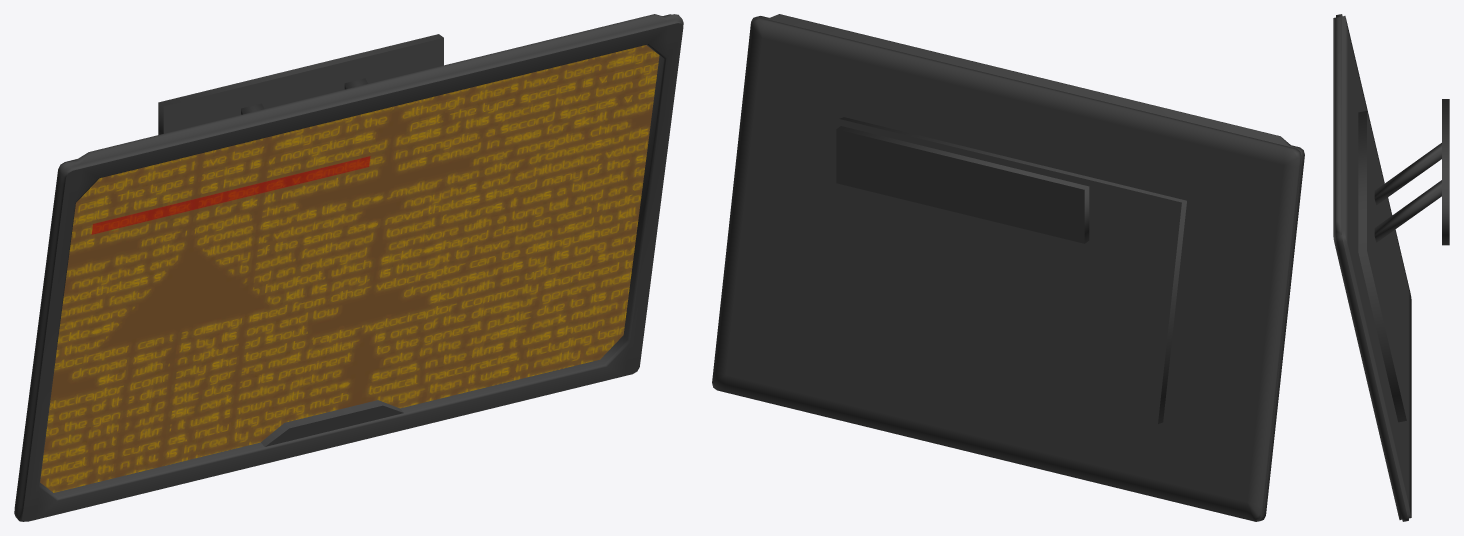
The model's file is TVScreen01.dae.
3 views of the same model, side by side, from view 1: azimuth 30°, elevation 25°; view 2: azimuth 150°, elevation 25°; view 3: azimuth 270°, elevation 25° (orthographic). The views are drawn at different scales.
Visible parts, largest first — view 1: polySurface23; view 2: polySurface23; view 3: polySurface23.
Part boxes in pixels (bbox=[...]): polySurface23: bbox=[14, 14, 683, 521]; polySurface23: bbox=[712, 14, 1304, 521]; polySurface23: bbox=[1333, 14, 1449, 521].
Size of the model in its own units: 2.02 by 1.23 by 0.4418.
Materials: 1 (1 with a texture image).
